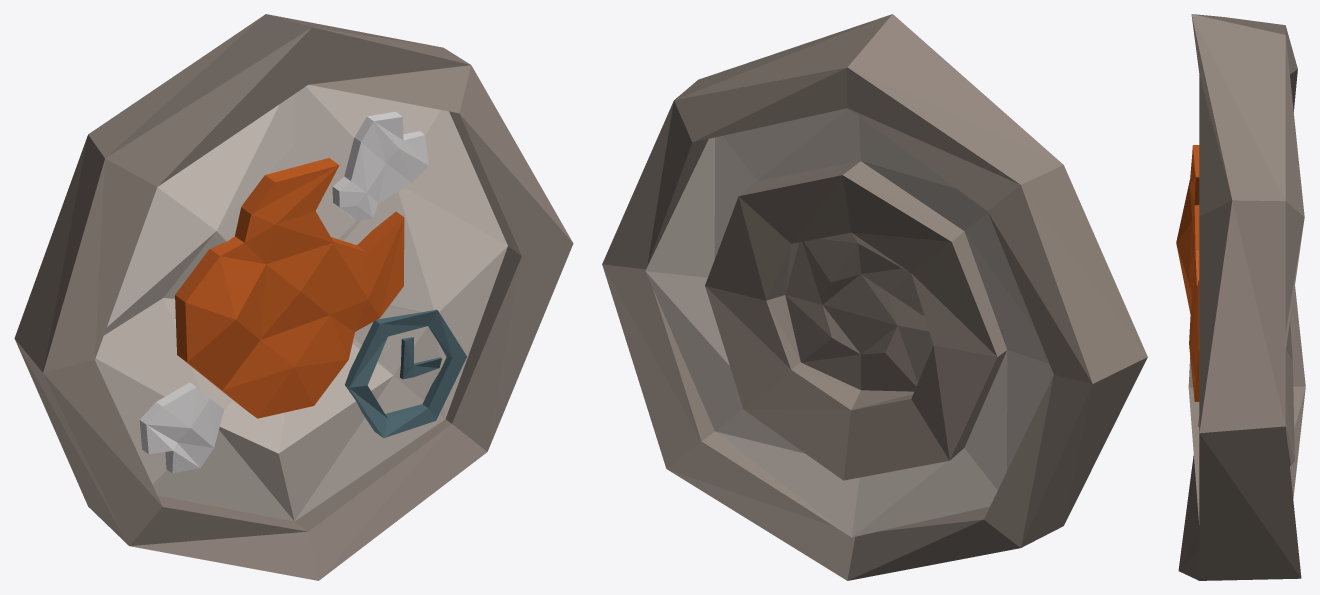
The model's file is item_fly_sp_time.FBX.
The picture shows the model from 3 angles, left to right: view 1: azimuth 30°, elevation 25°; view 2: azimuth 150°, elevation 25°; view 3: azimuth 270°, elevation 25°; orthographic projection. The views are drawn at different scales.
Parts seen in each view (by area): view 1: coin, sp_time; view 2: coin; view 3: coin, sp_time.
Part boxes in pixels (box(x1,y1,x2,y2)): coin: box(14, 14, 573, 580); sp_time: box(139, 111, 466, 473); coin: box(602, 14, 1147, 580); coin: box(1178, 14, 1305, 580); sp_time: box(1176, 145, 1199, 401).
Size of the model in its own units: 31.09 by 30.75 by 6.49.
1 material, 1 textured.
